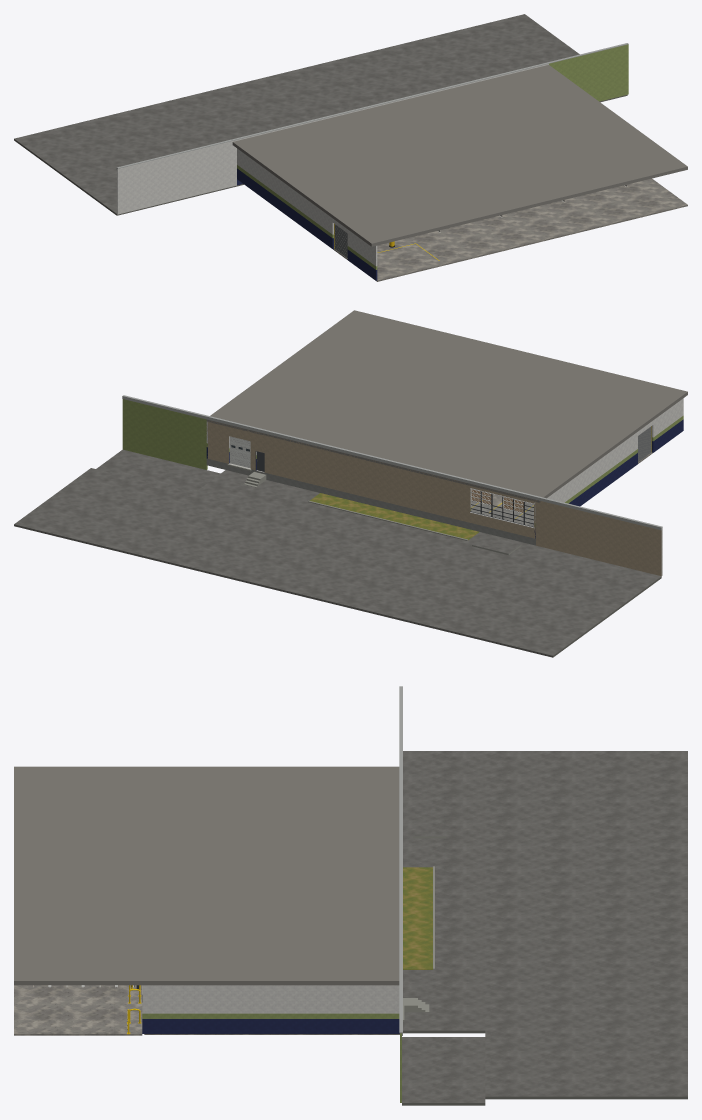
Rendered from shop_room.glb.
3 renders of one model, top to bottom at view 1: azimuth 30°, elevation 25°; view 2: azimuth 150°, elevation 25°; view 3: azimuth 270°, elevation 25°, orthographic. The views are drawn at different scales.
Visible parts, largest first — view 1: Room_Roof_20, Room_Ground_31, Room_Floor_20, Room_WallN_21, Room_WallW_11, Room_WallS_10; view 2: Room_Ground_31, Room_Roof_20, Room_WallN_21, Room_WallW_11, Room_WallS_10, Room_WallN_11, Room_Floor_10, Room_WallN_31; view 3: Room_Ground_31, Room_Roof_20, Room_WallE_31, Room_Floor_20, Room_WallN_21.
Part boxes in pixels (x1,y1,x2,y2): Room_Roof_20: (232,65,687,246); Room_Ground_31: (14,14,627,215); Room_Floor_20: (333,178,687,281); Room_WallN_21: (116,43,628,214); Room_WallW_11: (237,148,329,246); Room_WallS_10: (329,216,377,280); Room_Ground_31: (14,449,661,657); Room_Roof_20: (206,310,687,502); Room_WallN_21: (122,395,662,576); Room_WallW_11: (534,434,634,538); Room_WallS_10: (634,398,683,465); Room_WallN_11: (470,488,534,528); Room_Floor_10: (230,463,533,526); Room_WallN_31: (229,436,264,472); Room_Ground_31: (402,751,687,1105); Room_Roof_20: (14,766,399,985); Room_WallE_31: (142,985,399,1033); Room_Floor_20: (14,985,142,1035); Room_WallN_21: (399,686,402,1102).
Size of the model in its own units: 60 by 5.91 by 49.4.
113 materials, 112 textured.
